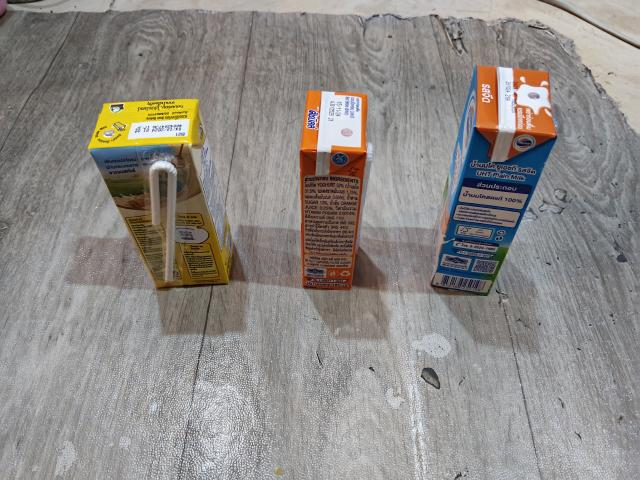drink_box: (425, 61, 569, 302), (79, 92, 247, 297), (292, 85, 380, 295)
